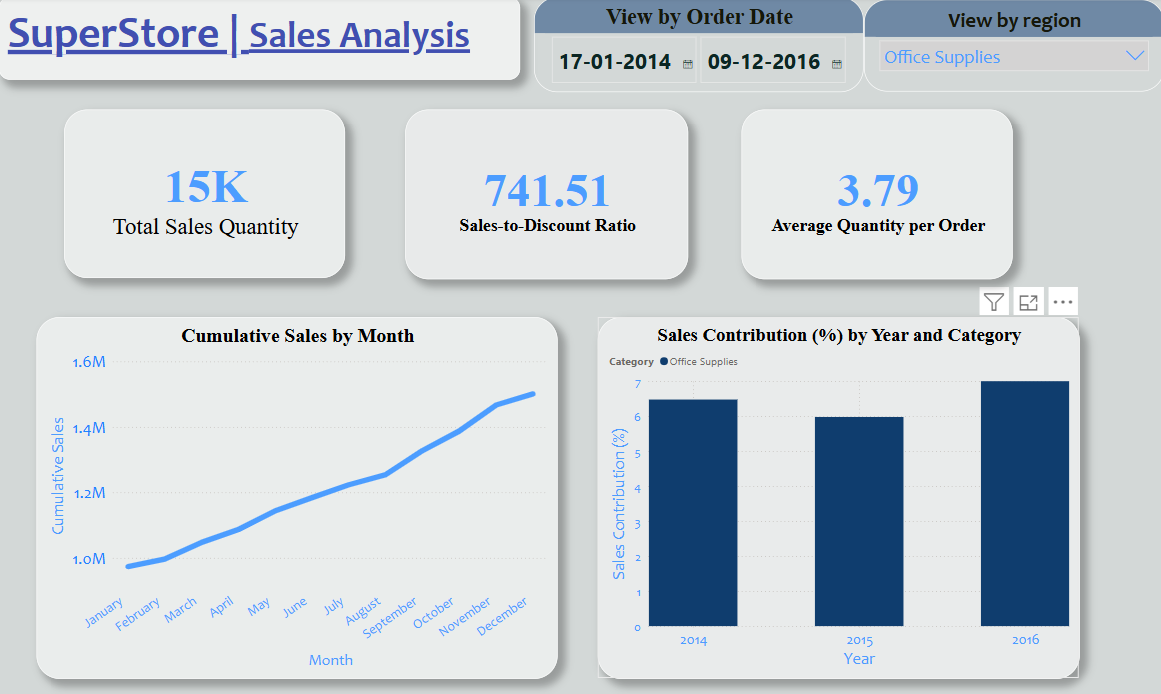

Layout of this report page (visuals, bound fields, positions):
{"tool":"powerbi","page":{"name":"Sales Analysis(1)","canvas":[1500,900],"ordinal":2},"visuals":[{"type":"textbox","box":[0,0,670,106],"z":0},{"type":"slicer","title":"View by Order Date","fields":{"Values":["Orders.Order Date"]},"box":[688,0,424,122],"z":1000},{"type":"slicer","title":"View by region","fields":{"Values":["Orders.Category"]},"box":[1112,4,386,118],"z":2000},{"type":"lineChart","fields":{"Y":["Orders.Cumulative Sales"],"Category":["Orders.Order Date.Variation.Date Hierarchy.Month"]},"box":[47.5,411.5,670.5,465.6],"z":3000},{"type":"clusteredColumnChart","fields":{"Category":["Orders.Order Date.Variation.Date Hierarchy.Year"],"Y":["Orders.Sales Contribution (%)"],"Series":["Orders.Category"]},"box":[770.5,411.5,619.7,465.6],"z":4000},{"type":"card","fields":{"Values":["Orders.Total Sales Quantity"]},"box":[83.3,145,361.7,216.7],"z":5000},{"type":"card","fields":{"Values":["Orders.Sales-to-Discount Ratio"]},"box":[523,144.3,363.9,218],"z":6000},{"type":"card","fields":{"Values":["Orders.Average Quantity per Order"]},"box":[955.7,144.3,349.2,218],"z":7000}]}

Visuals, with their boxes in screenshot pixels (x1, y1, x2, y2), scaled from the page's 1500x900 canvas onto the 1161x694 screenshot:
textbox: x1=0 y1=0 x2=519 y2=82
"View by Order Date" slicer: x1=533 y1=0 x2=861 y2=94
"View by region" slicer: x1=861 y1=3 x2=1159 y2=94
lineChart - Orders.Cumulative Sales x Orders.Order Date.Variation.Date Hierarchy.Month: x1=37 y1=317 x2=556 y2=676
clusteredColumnChart - Orders.Order Date.Variation.Date Hierarchy.Year x Orders.Sales Contribution (%): x1=596 y1=317 x2=1076 y2=676
card - Orders.Total Sales Quantity: x1=64 y1=112 x2=344 y2=279
card - Orders.Sales-to-Discount Ratio: x1=405 y1=111 x2=686 y2=279
card - Orders.Average Quantity per Order: x1=740 y1=111 x2=1010 y2=279
